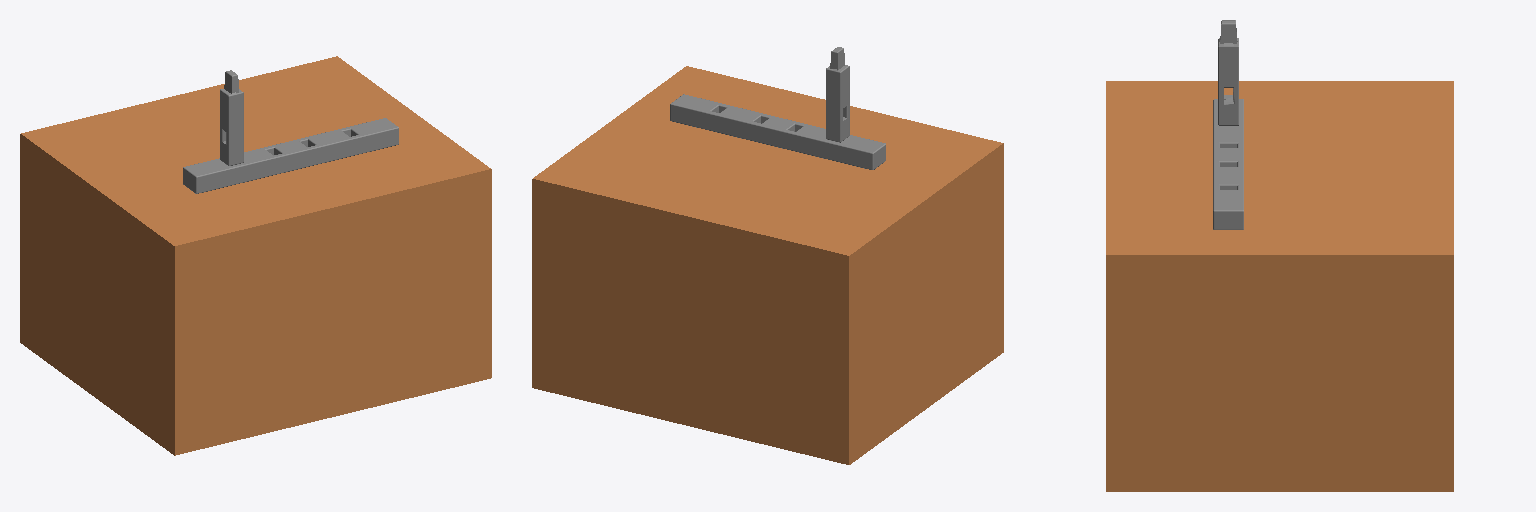
URDF robot description (table_beam_2x_0_scene_0015):
<?xml version="1.0"?>
<robot name="table_beam_2x_0_scene_0015">
  <link name="box">
    <visual>
      <material name="wood"><color rgba="0.82 0.56 0.35 1.0"/></material>
      <origin xyz="0 0 0"/>
      <geometry><box size="0.475 0.4 0.3"/></geometry>
    </visual>
    <collision>
      <origin xyz="0 0 0"/>
      <geometry><box size="0.475 0.4 0.3"/></geometry>
    </collision>
    <inertial>
      <mass value="500"/>
      <friction value="1.0"/>
      <inertia ixx="1000.0" ixy="0.0" ixz="0.0" iyy="1000.0" iyz="0.0" izz="1000.0"/>
    </inertial>
  </link>
  <link name="part_6_canonical">
    <visual>
      <origin xyz="0 0 0" rpy="0 0 0"/>
      <geometry><mesh filename="../../6/6_canonical.obj" scale="1 1 1"/></geometry>
      <material name="placed_0"><color rgba="0.6 0.6 0.6 1.0"/></material>
    </visual>
    <collision>
      <origin xyz="0 0 0" rpy="0 0 0"/>
      <geometry><mesh filename="../../6/6_canonical.obj" scale="1 1 1"/></geometry>
    </collision>
  </link>
  <joint name="part_6_canonical_joint" type="fixed">
    <parent link="box"/>
    <child link="part_6_canonical"/>
    <origin xyz="0.018541 -0.059023 0.162666" rpy="0.000000 0.000000 0.000000"/>
  </joint>
  <link name="part_2_hull_0">
    <visual>
      <origin xyz="0 0 0" rpy="0 0 0"/>
      <geometry><mesh filename="../../2/coacd/decomp_0.obj" scale="1 1 1"/></geometry>
      <material name="placed_1"><color rgba="0.6 0.6 0.6 1.0"/></material>
    </visual>
    <collision>
      <origin xyz="0 0 0" rpy="0 0 0"/>
      <geometry><mesh filename="../../2/coacd/decomp_0.obj" scale="1 1 1"/></geometry>
    </collision>
  </link>
  <joint name="part_2_hull_0_joint" type="fixed">
    <parent link="box"/>
    <child link="part_2_hull_0"/>
    <origin xyz="-0.070386 -0.059023 0.225384" rpy="0.000000 -1.570796 0.000000"/>
  </joint>
  <link name="part_2_hull_1">
    <visual>
      <origin xyz="0 0 0" rpy="0 0 0"/>
      <geometry><mesh filename="../../2/coacd/decomp_1.obj" scale="1 1 1"/></geometry>
      <material name="placed_2"><color rgba="0.6 0.6 0.6 1.0"/></material>
    </visual>
    <collision>
      <origin xyz="0 0 0" rpy="0 0 0"/>
      <geometry><mesh filename="../../2/coacd/decomp_1.obj" scale="1 1 1"/></geometry>
    </collision>
  </link>
  <joint name="part_2_hull_1_joint" type="fixed">
    <parent link="box"/>
    <child link="part_2_hull_1"/>
    <origin xyz="-0.070386 -0.059023 0.225384" rpy="0.000000 -1.570796 0.000000"/>
  </joint>
  <link name="part_2_hull_2">
    <visual>
      <origin xyz="0 0 0" rpy="0 0 0"/>
      <geometry><mesh filename="../../2/coacd/decomp_10.obj" scale="1 1 1"/></geometry>
      <material name="placed_3"><color rgba="0.6 0.6 0.6 1.0"/></material>
    </visual>
    <collision>
      <origin xyz="0 0 0" rpy="0 0 0"/>
      <geometry><mesh filename="../../2/coacd/decomp_10.obj" scale="1 1 1"/></geometry>
    </collision>
  </link>
  <joint name="part_2_hull_2_joint" type="fixed">
    <parent link="box"/>
    <child link="part_2_hull_2"/>
    <origin xyz="-0.070386 -0.059023 0.225384" rpy="0.000000 -1.570796 0.000000"/>
  </joint>
  <link name="part_2_hull_3">
    <visual>
      <origin xyz="0 0 0" rpy="0 0 0"/>
      <geometry><mesh filename="../../2/coacd/decomp_11.obj" scale="1 1 1"/></geometry>
      <material name="placed_4"><color rgba="0.6 0.6 0.6 1.0"/></material>
    </visual>
    <collision>
      <origin xyz="0 0 0" rpy="0 0 0"/>
      <geometry><mesh filename="../../2/coacd/decomp_11.obj" scale="1 1 1"/></geometry>
    </collision>
  </link>
  <joint name="part_2_hull_3_joint" type="fixed">
    <parent link="box"/>
    <child link="part_2_hull_3"/>
    <origin xyz="-0.070386 -0.059023 0.225384" rpy="0.000000 -1.570796 0.000000"/>
  </joint>
  <link name="part_2_hull_4">
    <visual>
      <origin xyz="0 0 0" rpy="0 0 0"/>
      <geometry><mesh filename="../../2/coacd/decomp_12.obj" scale="1 1 1"/></geometry>
      <material name="placed_5"><color rgba="0.6 0.6 0.6 1.0"/></material>
    </visual>
    <collision>
      <origin xyz="0 0 0" rpy="0 0 0"/>
      <geometry><mesh filename="../../2/coacd/decomp_12.obj" scale="1 1 1"/></geometry>
    </collision>
  </link>
  <joint name="part_2_hull_4_joint" type="fixed">
    <parent link="box"/>
    <child link="part_2_hull_4"/>
    <origin xyz="-0.070386 -0.059023 0.225384" rpy="0.000000 -1.570796 0.000000"/>
  </joint>
  <link name="part_2_hull_5">
    <visual>
      <origin xyz="0 0 0" rpy="0 0 0"/>
      <geometry><mesh filename="../../2/coacd/decomp_13.obj" scale="1 1 1"/></geometry>
      <material name="placed_6"><color rgba="0.6 0.6 0.6 1.0"/></material>
    </visual>
    <collision>
      <origin xyz="0 0 0" rpy="0 0 0"/>
      <geometry><mesh filename="../../2/coacd/decomp_13.obj" scale="1 1 1"/></geometry>
    </collision>
  </link>
  <joint name="part_2_hull_5_joint" type="fixed">
    <parent link="box"/>
    <child link="part_2_hull_5"/>
    <origin xyz="-0.070386 -0.059023 0.225384" rpy="0.000000 -1.570796 0.000000"/>
  </joint>
  <link name="part_2_hull_6">
    <visual>
      <origin xyz="0 0 0" rpy="0 0 0"/>
      <geometry><mesh filename="../../2/coacd/decomp_14.obj" scale="1 1 1"/></geometry>
      <material name="placed_7"><color rgba="0.6 0.6 0.6 1.0"/></material>
    </visual>
    <collision>
      <origin xyz="0 0 0" rpy="0 0 0"/>
      <geometry><mesh filename="../../2/coacd/decomp_14.obj" scale="1 1 1"/></geometry>
    </collision>
  </link>
  <joint name="part_2_hull_6_joint" type="fixed">
    <parent link="box"/>
    <child link="part_2_hull_6"/>
    <origin xyz="-0.070386 -0.059023 0.225384" rpy="0.000000 -1.570796 0.000000"/>
  </joint>
  <link name="part_2_hull_7">
    <visual>
      <origin xyz="0 0 0" rpy="0 0 0"/>
      <geometry><mesh filename="../../2/coacd/decomp_15.obj" scale="1 1 1"/></geometry>
      <material name="placed_8"><color rgba="0.6 0.6 0.6 1.0"/></material>
    </visual>
    <collision>
      <origin xyz="0 0 0" rpy="0 0 0"/>
      <geometry><mesh filename="../../2/coacd/decomp_15.obj" scale="1 1 1"/></geometry>
    </collision>
  </link>
  <joint name="part_2_hull_7_joint" type="fixed">
    <parent link="box"/>
    <child link="part_2_hull_7"/>
    <origin xyz="-0.070386 -0.059023 0.225384" rpy="0.000000 -1.570796 0.000000"/>
  </joint>
  <link name="part_2_hull_8">
    <visual>
      <origin xyz="0 0 0" rpy="0 0 0"/>
      <geometry><mesh filename="../../2/coacd/decomp_2.obj" scale="1 1 1"/></geometry>
      <material name="placed_9"><color rgba="0.6 0.6 0.6 1.0"/></material>
    </visual>
    <collision>
      <origin xyz="0 0 0" rpy="0 0 0"/>
      <geometry><mesh filename="../../2/coacd/decomp_2.obj" scale="1 1 1"/></geometry>
    </collision>
  </link>
  <joint name="part_2_hull_8_joint" type="fixed">
    <parent link="box"/>
    <child link="part_2_hull_8"/>
    <origin xyz="-0.070386 -0.059023 0.225384" rpy="0.000000 -1.570796 0.000000"/>
  </joint>
  <link name="part_2_hull_9">
    <visual>
      <origin xyz="0 0 0" rpy="0 0 0"/>
      <geometry><mesh filename="../../2/coacd/decomp_3.obj" scale="1 1 1"/></geometry>
      <material name="placed_10"><color rgba="0.6 0.6 0.6 1.0"/></material>
    </visual>
    <collision>
      <origin xyz="0 0 0" rpy="0 0 0"/>
      <geometry><mesh filename="../../2/coacd/decomp_3.obj" scale="1 1 1"/></geometry>
    </collision>
  </link>
  <joint name="part_2_hull_9_joint" type="fixed">
    <parent link="box"/>
    <child link="part_2_hull_9"/>
    <origin xyz="-0.070386 -0.059023 0.225384" rpy="0.000000 -1.570796 0.000000"/>
  </joint>
  <link name="part_2_hull_10">
    <visual>
      <origin xyz="0 0 0" rpy="0 0 0"/>
      <geometry><mesh filename="../../2/coacd/decomp_4.obj" scale="1 1 1"/></geometry>
      <material name="placed_11"><color rgba="0.6 0.6 0.6 1.0"/></material>
    </visual>
    <collision>
      <origin xyz="0 0 0" rpy="0 0 0"/>
      <geometry><mesh filename="../../2/coacd/decomp_4.obj" scale="1 1 1"/></geometry>
    </collision>
  </link>
  <joint name="part_2_hull_10_joint" type="fixed">
    <parent link="box"/>
    <child link="part_2_hull_10"/>
    <origin xyz="-0.070386 -0.059023 0.225384" rpy="0.000000 -1.570796 0.000000"/>
  </joint>
  <link name="part_2_hull_11">
    <visual>
      <origin xyz="0 0 0" rpy="0 0 0"/>
      <geometry><mesh filename="../../2/coacd/decomp_5.obj" scale="1 1 1"/></geometry>
      <material name="placed_12"><color rgba="0.6 0.6 0.6 1.0"/></material>
    </visual>
    <collision>
      <origin xyz="0 0 0" rpy="0 0 0"/>
      <geometry><mesh filename="../../2/coacd/decomp_5.obj" scale="1 1 1"/></geometry>
    </collision>
  </link>
  <joint name="part_2_hull_11_joint" type="fixed">
    <parent link="box"/>
    <child link="part_2_hull_11"/>
    <origin xyz="-0.070386 -0.059023 0.225384" rpy="0.000000 -1.570796 0.000000"/>
  </joint>
  <link name="part_2_hull_12">
    <visual>
      <origin xyz="0 0 0" rpy="0 0 0"/>
      <geometry><mesh filename="../../2/coacd/decomp_6.obj" scale="1 1 1"/></geometry>
      <material name="placed_13"><color rgba="0.6 0.6 0.6 1.0"/></material>
    </visual>
    <collision>
      <origin xyz="0 0 0" rpy="0 0 0"/>
      <geometry><mesh filename="../../2/coacd/decomp_6.obj" scale="1 1 1"/></geometry>
    </collision>
  </link>
  <joint name="part_2_hull_12_joint" type="fixed">
    <parent link="box"/>
    <child link="part_2_hull_12"/>
    <origin xyz="-0.070386 -0.059023 0.225384" rpy="0.000000 -1.570796 0.000000"/>
  </joint>
  <link name="part_2_hull_13">
    <visual>
      <origin xyz="0 0 0" rpy="0 0 0"/>
      <geometry><mesh filename="../../2/coacd/decomp_7.obj" scale="1 1 1"/></geometry>
      <material name="placed_14"><color rgba="0.6 0.6 0.6 1.0"/></material>
    </visual>
    <collision>
      <origin xyz="0 0 0" rpy="0 0 0"/>
      <geometry><mesh filename="../../2/coacd/decomp_7.obj" scale="1 1 1"/></geometry>
    </collision>
  </link>
  <joint name="part_2_hull_13_joint" type="fixed">
    <parent link="box"/>
    <child link="part_2_hull_13"/>
    <origin xyz="-0.070386 -0.059023 0.225384" rpy="0.000000 -1.570796 0.000000"/>
  </joint>
  <link name="part_2_hull_14">
    <visual>
      <origin xyz="0 0 0" rpy="0 0 0"/>
      <geometry><mesh filename="../../2/coacd/decomp_8.obj" scale="1 1 1"/></geometry>
      <material name="placed_15"><color rgba="0.6 0.6 0.6 1.0"/></material>
    </visual>
    <collision>
      <origin xyz="0 0 0" rpy="0 0 0"/>
      <geometry><mesh filename="../../2/coacd/decomp_8.obj" scale="1 1 1"/></geometry>
    </collision>
  </link>
  <joint name="part_2_hull_14_joint" type="fixed">
    <parent link="box"/>
    <child link="part_2_hull_14"/>
    <origin xyz="-0.070386 -0.059023 0.225384" rpy="0.000000 -1.570796 0.000000"/>
  </joint>
  <link name="part_2_hull_15">
    <visual>
      <origin xyz="0 0 0" rpy="0 0 0"/>
      <geometry><mesh filename="../../2/coacd/decomp_9.obj" scale="1 1 1"/></geometry>
      <material name="placed_16"><color rgba="0.6 0.6 0.6 1.0"/></material>
    </visual>
    <collision>
      <origin xyz="0 0 0" rpy="0 0 0"/>
      <geometry><mesh filename="../../2/coacd/decomp_9.obj" scale="1 1 1"/></geometry>
    </collision>
  </link>
  <joint name="part_2_hull_15_joint" type="fixed">
    <parent link="box"/>
    <child link="part_2_hull_15"/>
    <origin xyz="-0.070386 -0.059023 0.225384" rpy="0.000000 -1.570796 0.000000"/>
  </joint>
</robot>

--- Facts derived from the render (not from the file) ---
The picture shows the robot from 3 angles, left to right: view 1: azimuth 30°, elevation 25°; view 2: azimuth 150°, elevation 25°; view 3: azimuth 270°, elevation 25°; orthographic projection.
Robot: table_beam_2x_0_scene_0015 — 18 links, 17 joints (17 fixed); root link box; default pose: every joint at zero.
Links seen in each view (by area): view 1: box, part_6_canonical, part_2_hull_1; view 2: box, part_6_canonical, part_2_hull_1; view 3: box, part_6_canonical.
Link boxes in pixels (box(x1,y1,x2,y2)): box: box(20, 56, 491, 455); part_6_canonical: box(183, 118, 398, 193); part_2_hull_1: box(220, 89, 232, 133); box: box(532, 66, 1003, 464); part_6_canonical: box(670, 94, 885, 169); part_2_hull_1: box(837, 65, 849, 109); box: box(1106, 81, 1453, 491); part_6_canonical: box(1213, 99, 1243, 229).
Size in the robot's own frame: 0.475 by 0.4 by 0.4524 metres.
Meshes: 17 distinct files referenced, 17 mesh visuals loaded (17 OBJ).
